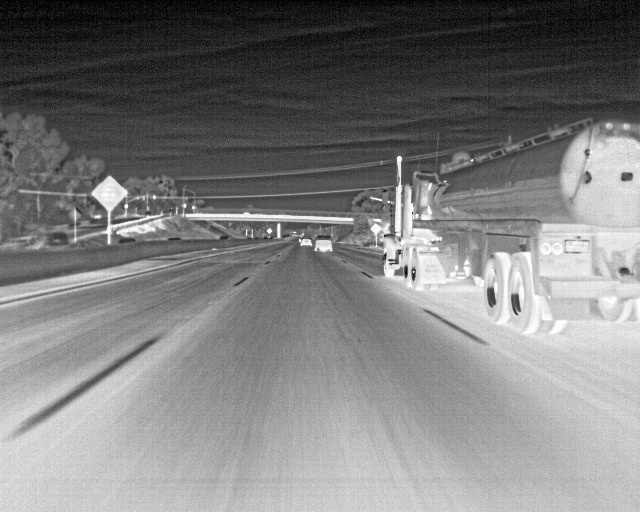vehicle: (384, 122, 640, 334), (316, 233, 332, 253), (298, 233, 314, 247)
